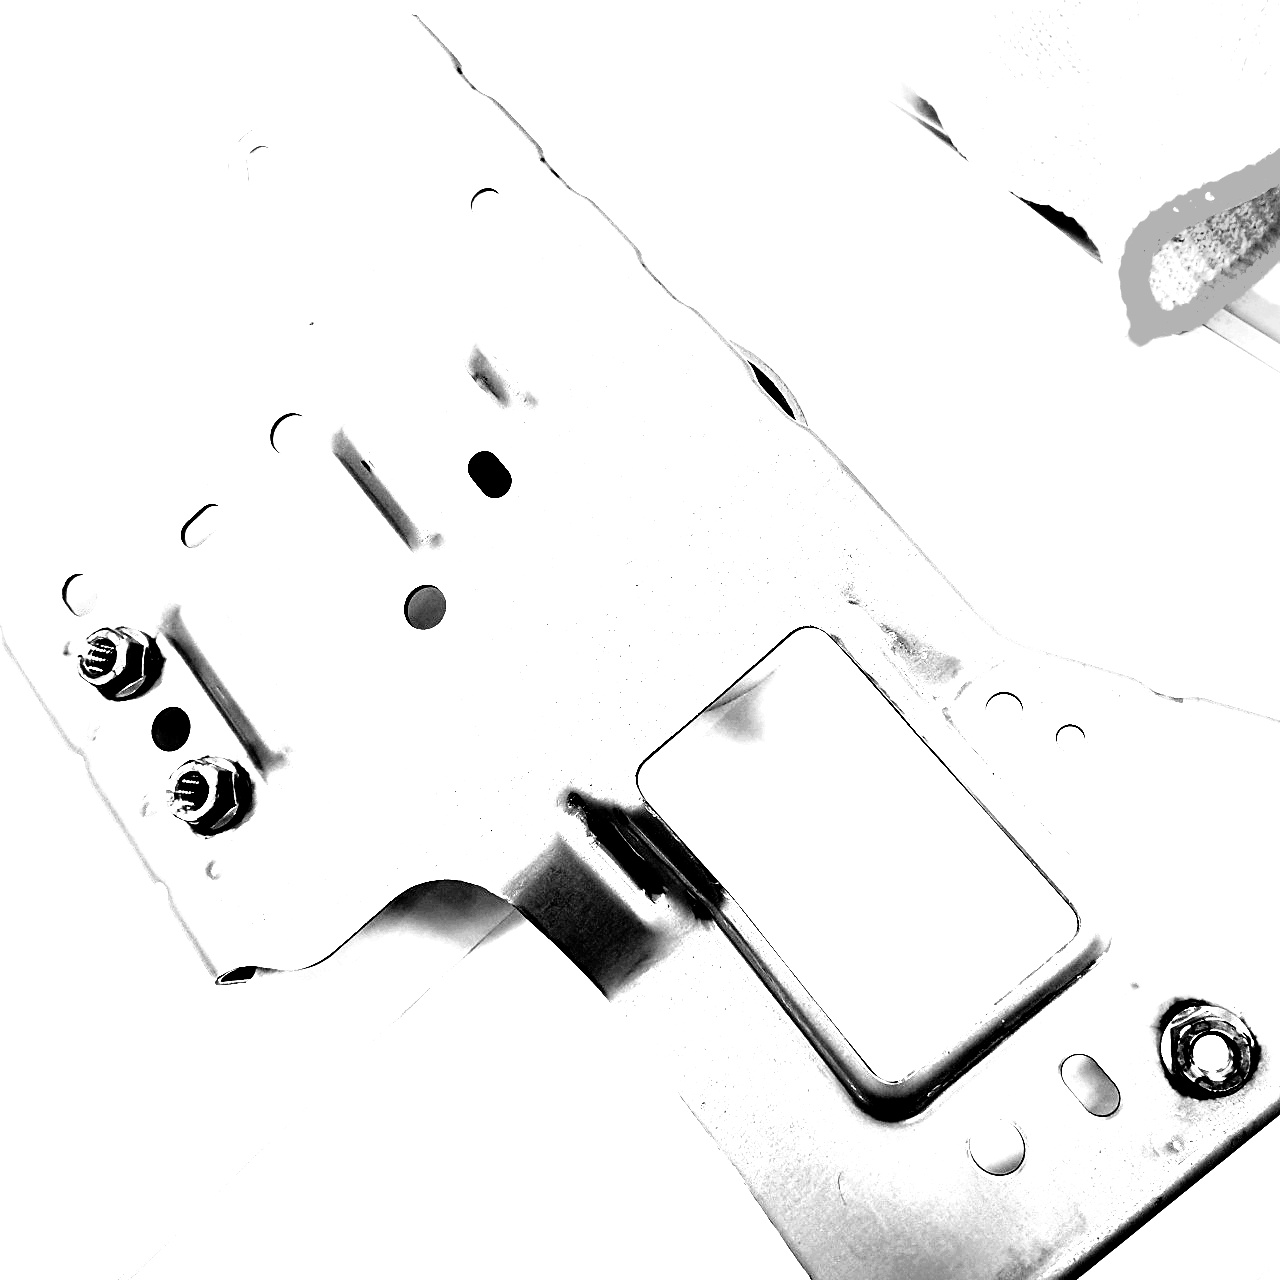dog: (1152, 996, 1262, 1102), (159, 748, 252, 842), (72, 620, 168, 704)
